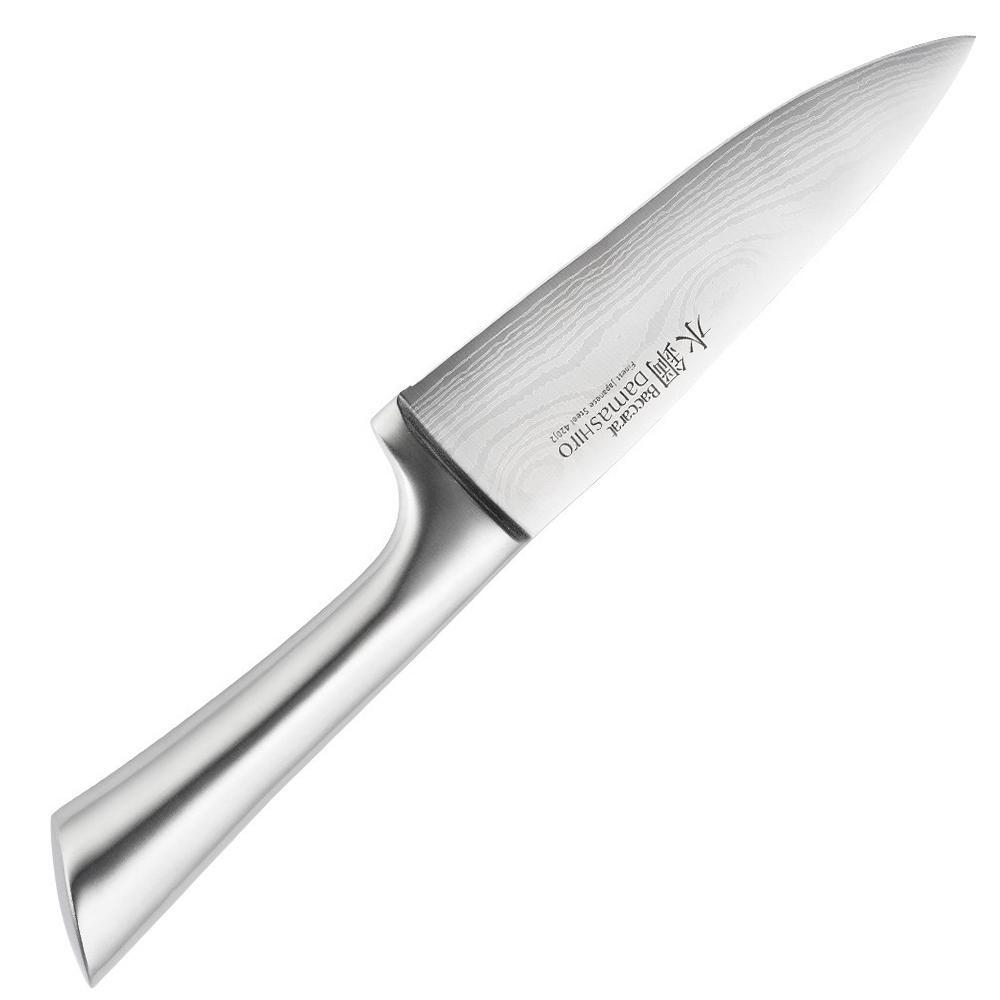knife: (53, 31, 980, 986)
